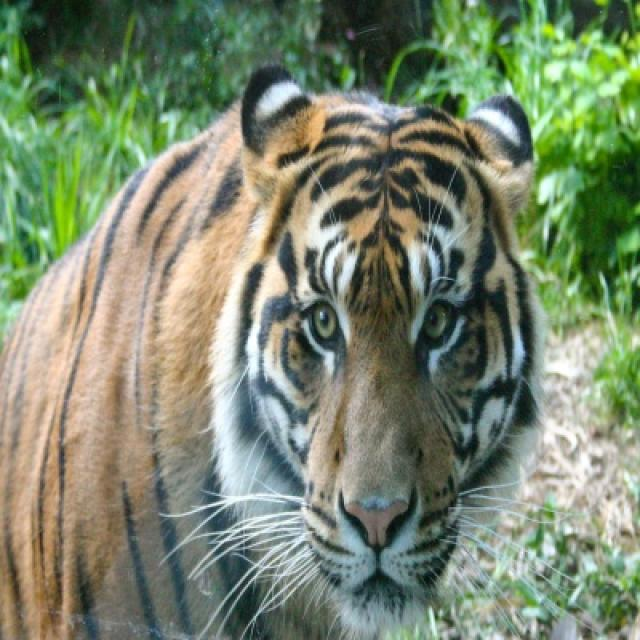Tiger: (0, 61, 545, 638)
